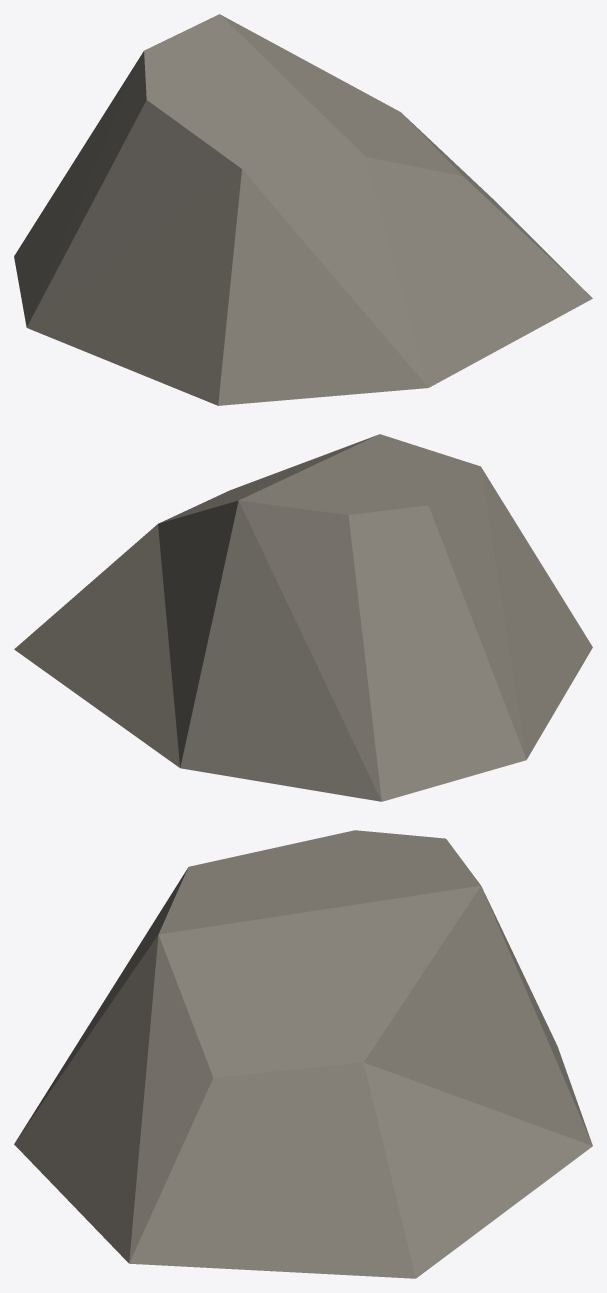
The model's file is TB_D_Env_RockD_A.FBX.
3 renders of one model, top to bottom at view 1: azimuth 30°, elevation 25°; view 2: azimuth 150°, elevation 25°; view 3: azimuth 270°, elevation 25°, orthographic. The views are drawn at different scales.
Parts seen in each view (by area): view 1: TB_D_Env_RockD_A; view 2: TB_D_Env_RockD_A; view 3: TB_D_Env_RockD_A.
Part boxes in pixels (x1=…): TB_D_Env_RockD_A: x1=14, y1=14, x2=592, y2=405; TB_D_Env_RockD_A: x1=14, y1=434, x2=592, y2=801; TB_D_Env_RockD_A: x1=14, y1=830, x2=592, y2=1278.
Size of the model in its own units: 1.49 by 0.6652 by 1.36.
